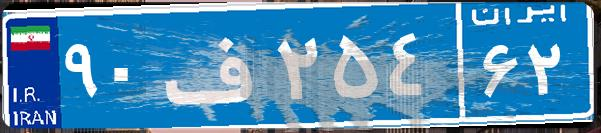0: (110, 28, 158, 105)
2: (273, 28, 330, 110), (525, 38, 570, 115)
4: (385, 28, 445, 110)
5: (330, 28, 385, 110)
6: (475, 38, 525, 113)
9: (57, 26, 110, 107)
ف: (158, 15, 273, 115)
